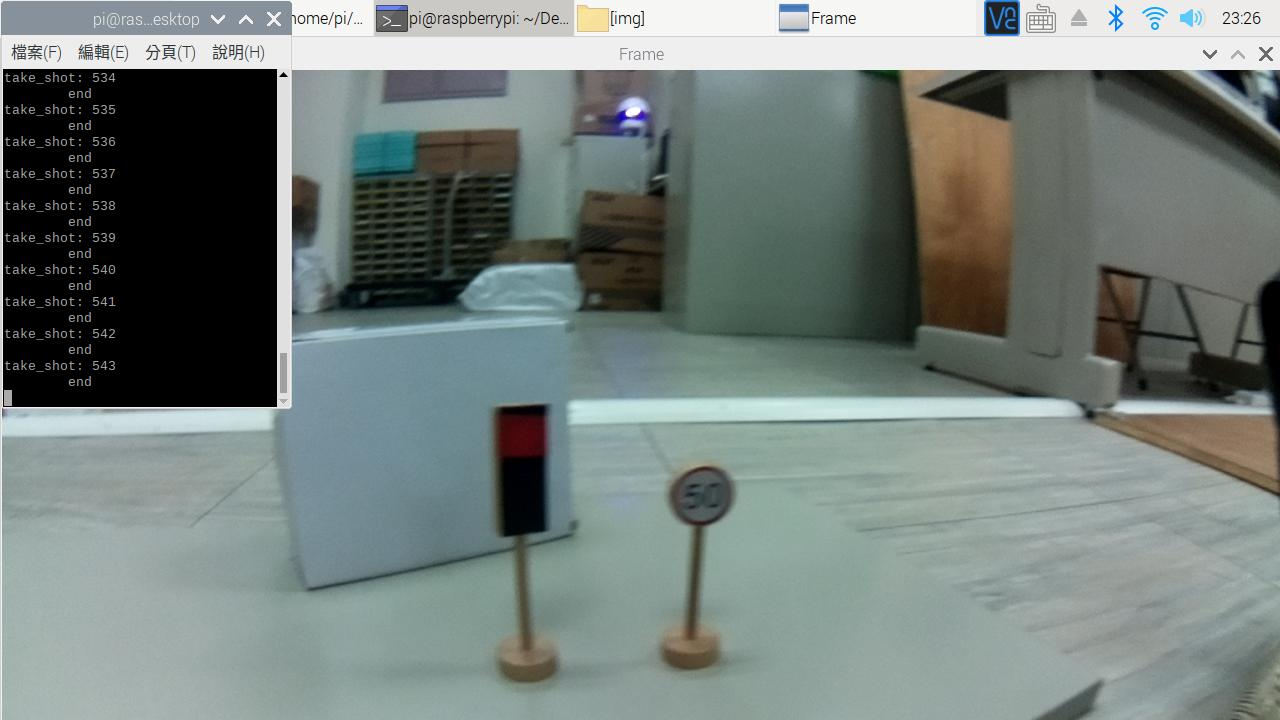Red: (476, 396, 570, 555)
Speed50: (668, 462, 744, 539)
